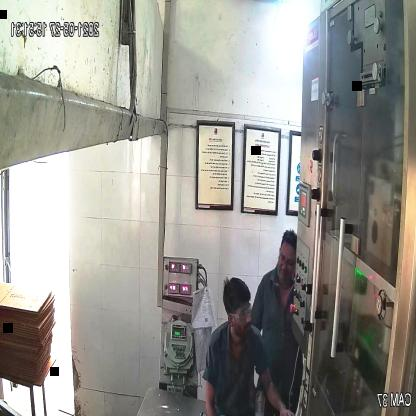goggles: (226, 301, 253, 324)
